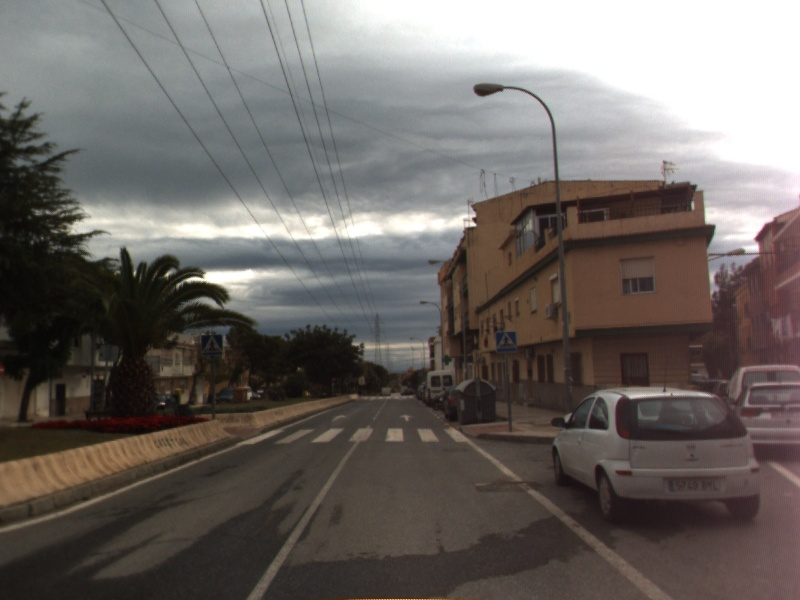STRAIGHT: (329, 413, 350, 424), (397, 412, 415, 423)
